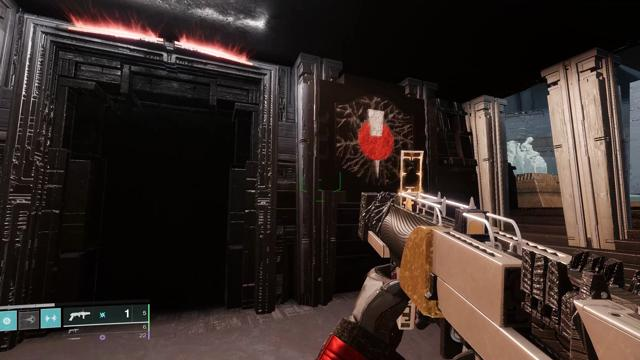kill: (336, 95, 415, 185)
